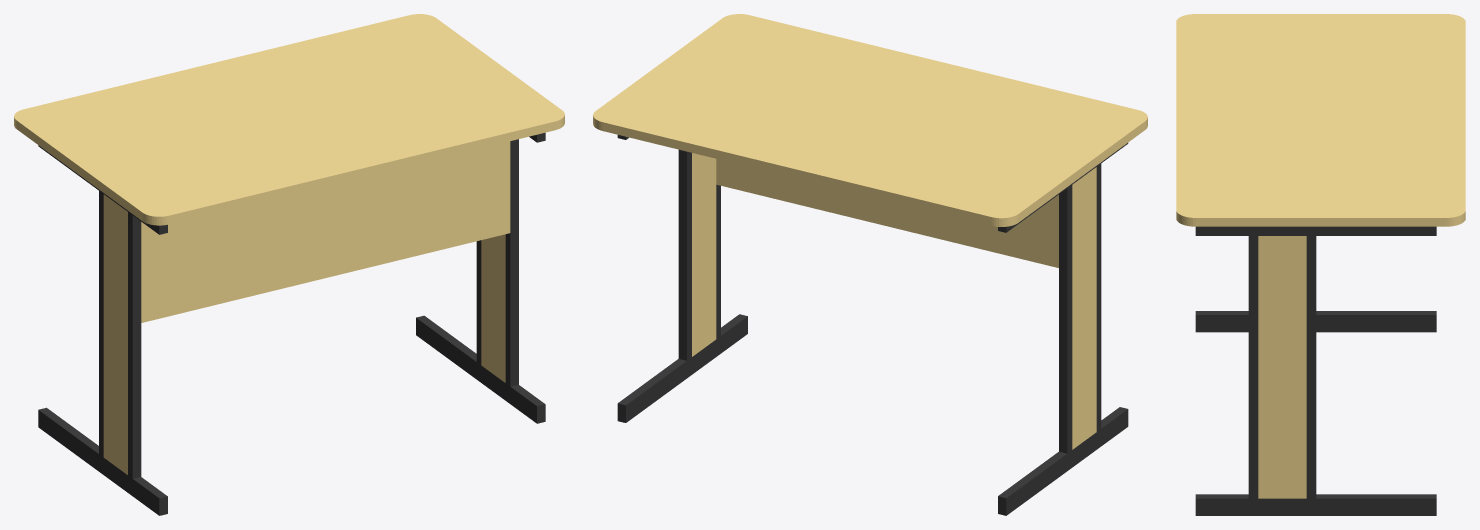
The model's file is lar_table_pc.dae.
The picture shows the model from 3 angles, left to right: view 1: azimuth 30°, elevation 25°; view 2: azimuth 150°, elevation 25°; view 3: azimuth 270°, elevation 25°; orthographic projection.
Visible parts, largest first — view 1: Component_23 (×4), Component_22, Component_60; view 2: Component_23 (×4), Component_22, Component_60; view 3: Component_23 (×2), Component_60, Component_22.
Boxes of the visible parts, left/top/right/bottom form: Component_23 (×4): left=14, top=14, right=564, bottom=474; Component_22: left=38, top=145, right=167, bottom=515; Component_60: left=416, top=132, right=545, bottom=423; Component_23 (×4): left=593, top=14, right=1147, bottom=449; Component_22: left=998, top=143, right=1128, bottom=515; Component_60: left=617, top=135, right=747, bottom=422; Component_23 (×2): left=1176, top=14, right=1465, bottom=498; Component_60: left=1195, top=226, right=1436, bottom=515; Component_22: left=1195, top=311, right=1436, bottom=332.
Bounding box in the file's own units: 39.37 × 23.62 × 27.56.
